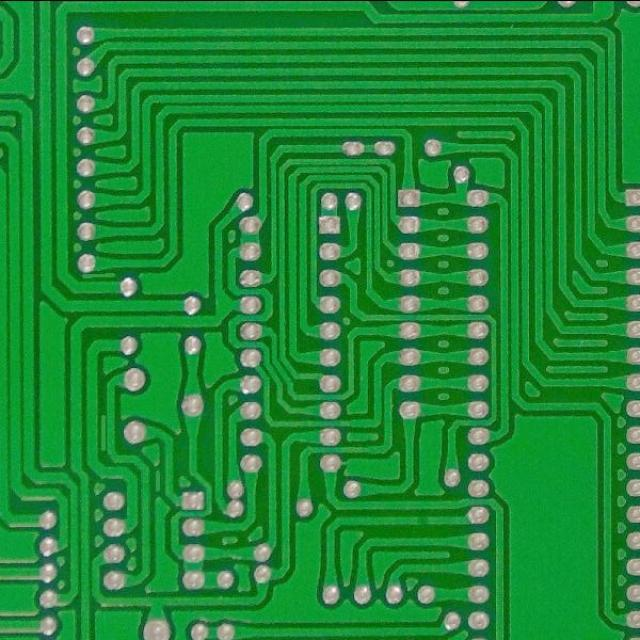spurious_copper: (92, 412, 112, 453), (149, 467, 162, 495)
